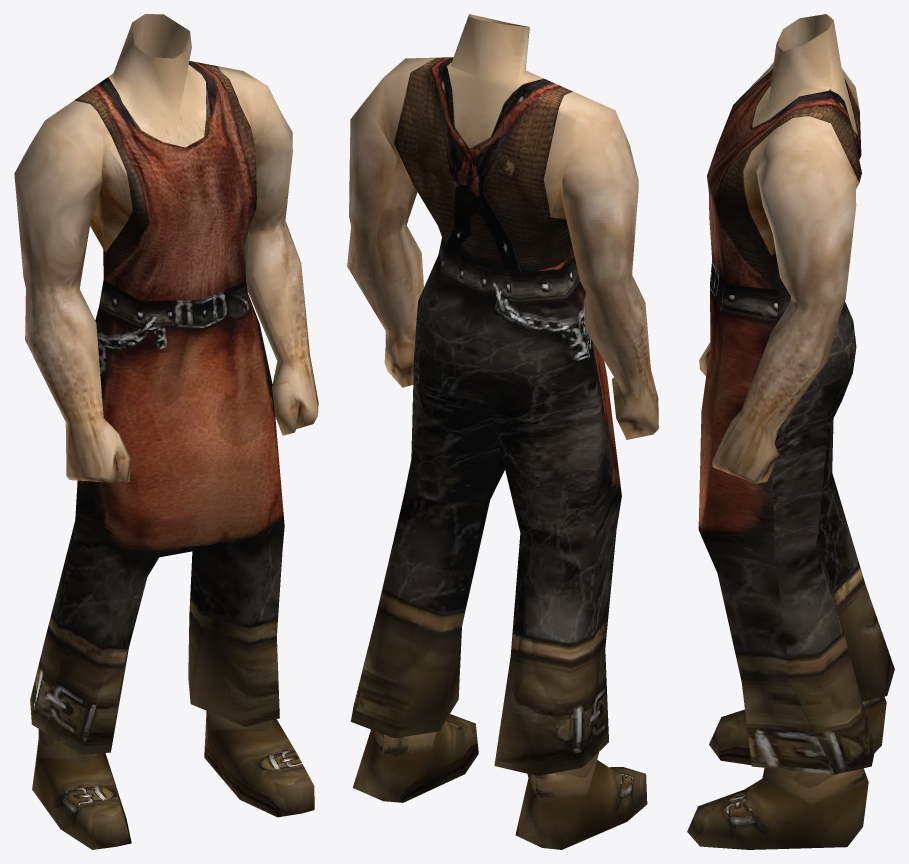
File: KOWALIK1.glb
3 views of the same model, side by side, from view 1: azimuth 30°, elevation 25°; view 2: azimuth 150°, elevation 25°; view 3: azimuth 270°, elevation 25° (orthographic). The views are drawn at different scales.
Parts seen in each view (by area): view 1: KOWALIK1; view 2: KOWALIK1; view 3: KOWALIK1.
Part boxes in pixels (<box>): KOWALIK1: <box>14,14,318,849</box>; KOWALIK1: <box>347,14,658,849</box>; KOWALIK1: <box>687,14,894,849</box>.
Bounding box in the file's own units: 0.6194 × 1.68 × 0.4075.
2 materials, 2 textured.
